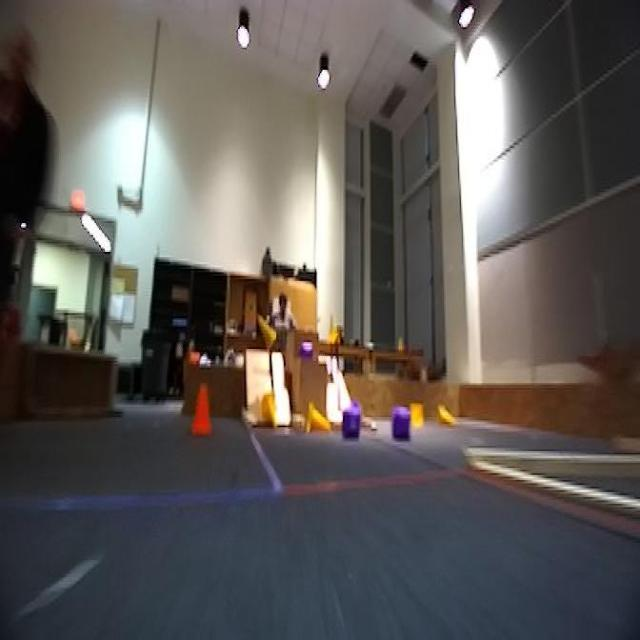frc_cone: (304, 400, 331, 437), (258, 390, 281, 429), (255, 313, 278, 351), (324, 317, 341, 354), (408, 400, 424, 439), (435, 403, 455, 429)
frc_cube: (390, 405, 414, 446), (340, 407, 360, 442), (297, 340, 317, 362)
